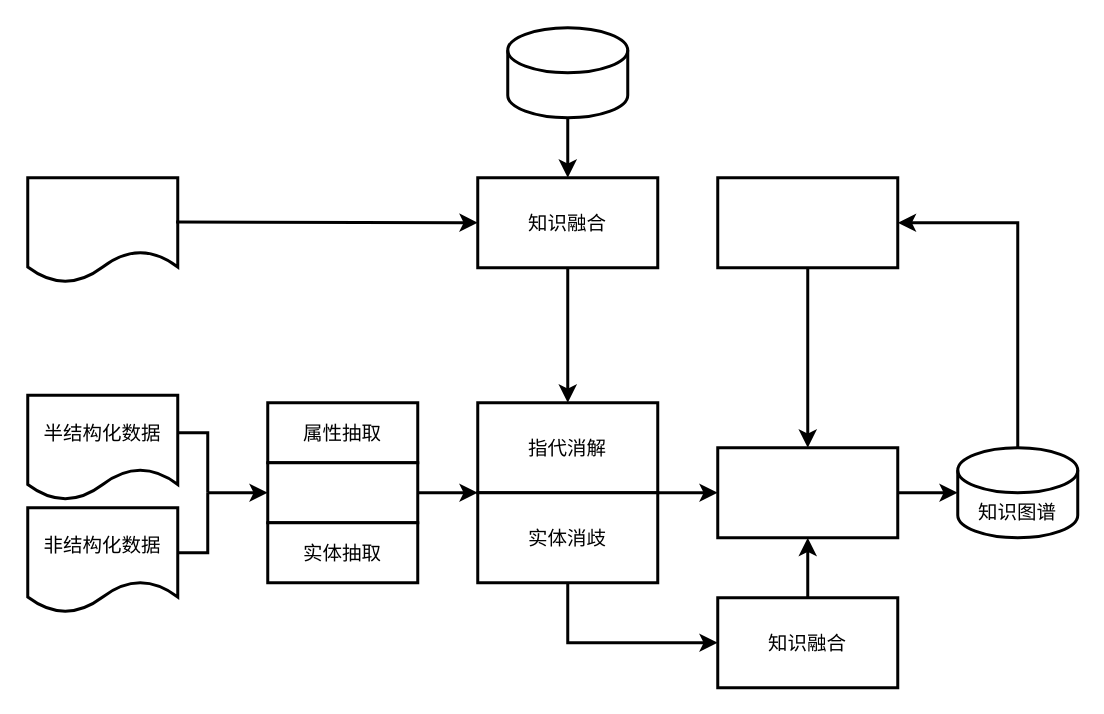
The diagram is 1104 pixels wide and 714 high, and some of its shapes have lost their labels. Each missing label, with the centre of its shape:
"关系抽取" belongs at point (342, 492).
"知识推理" belongs at point (807, 222).
"第三方知识库" belongs at point (567, 72).
"结构化数据" belongs at point (102, 230).
"质量评估" belongs at point (807, 492).
